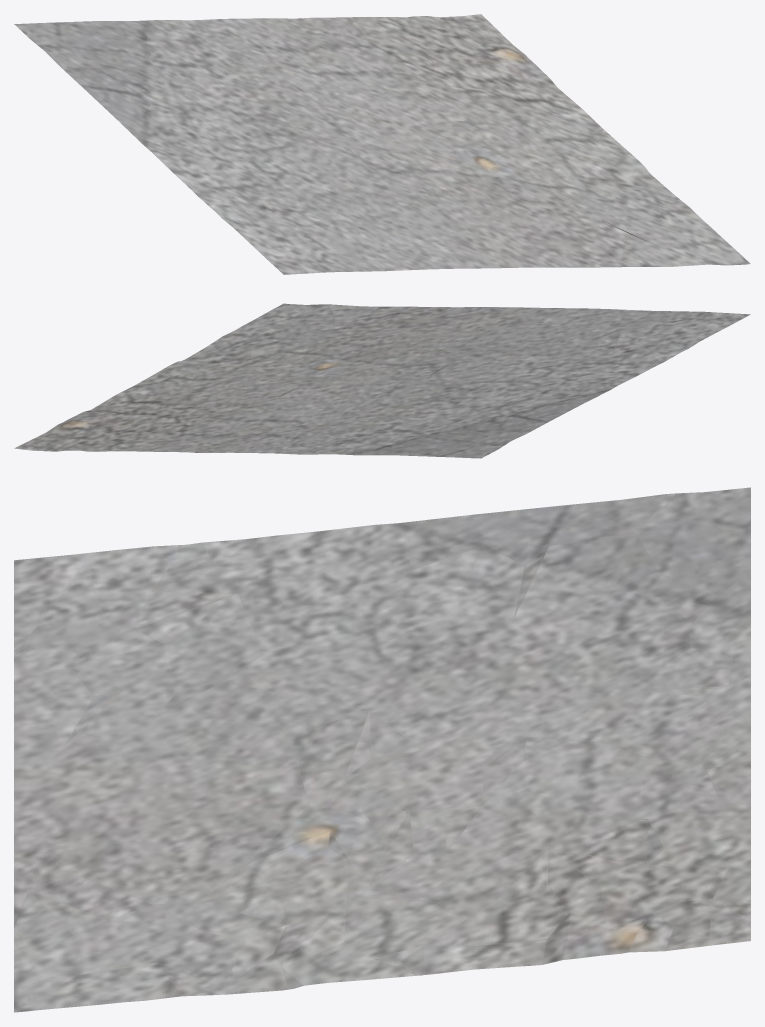
3 views of the same model, one above another, from view 1: azimuth 30°, elevation 25°; view 2: azimuth 150°, elevation 25°; view 3: azimuth 270°, elevation 25° (orthographic). The views are drawn at different scales.
Size of the model in its own units: 1.67 by 0.5358 by 1.67.
3 materials, 3 textured.
